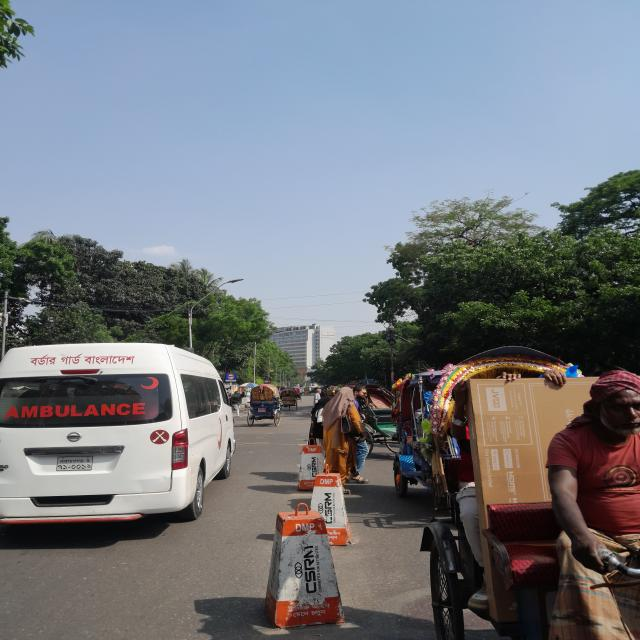person: (310, 384, 375, 486), (314, 388, 323, 405)
